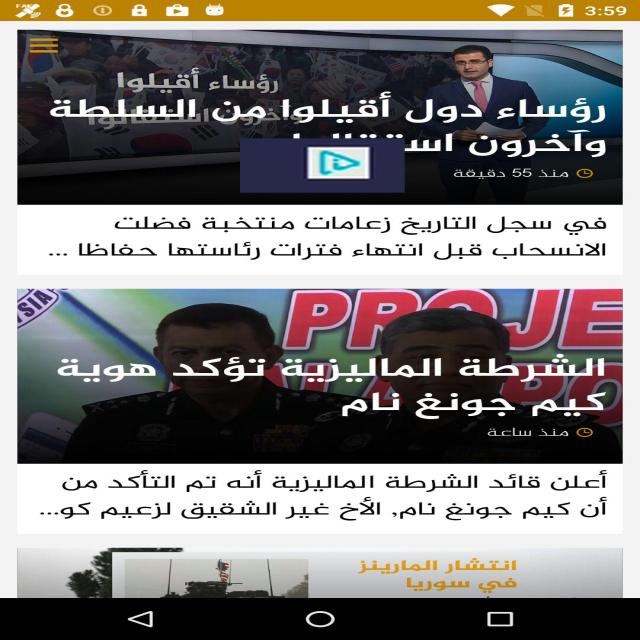sneaking: (240, 138, 405, 193)
